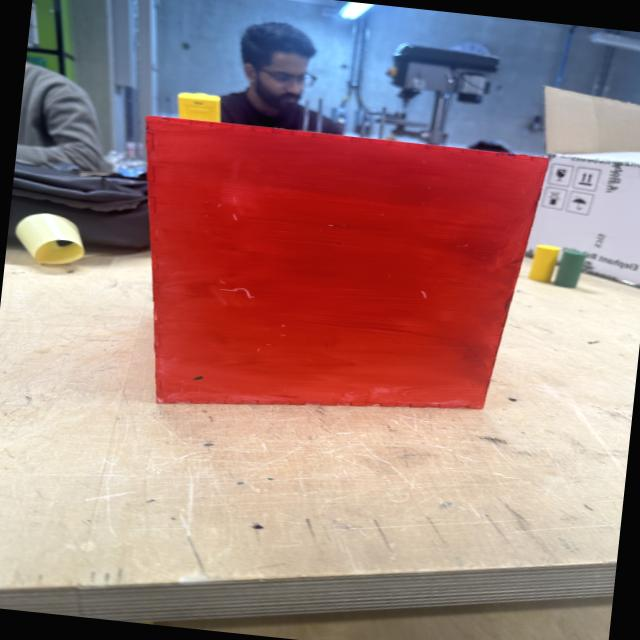red_bin: (114, 114, 551, 444)
